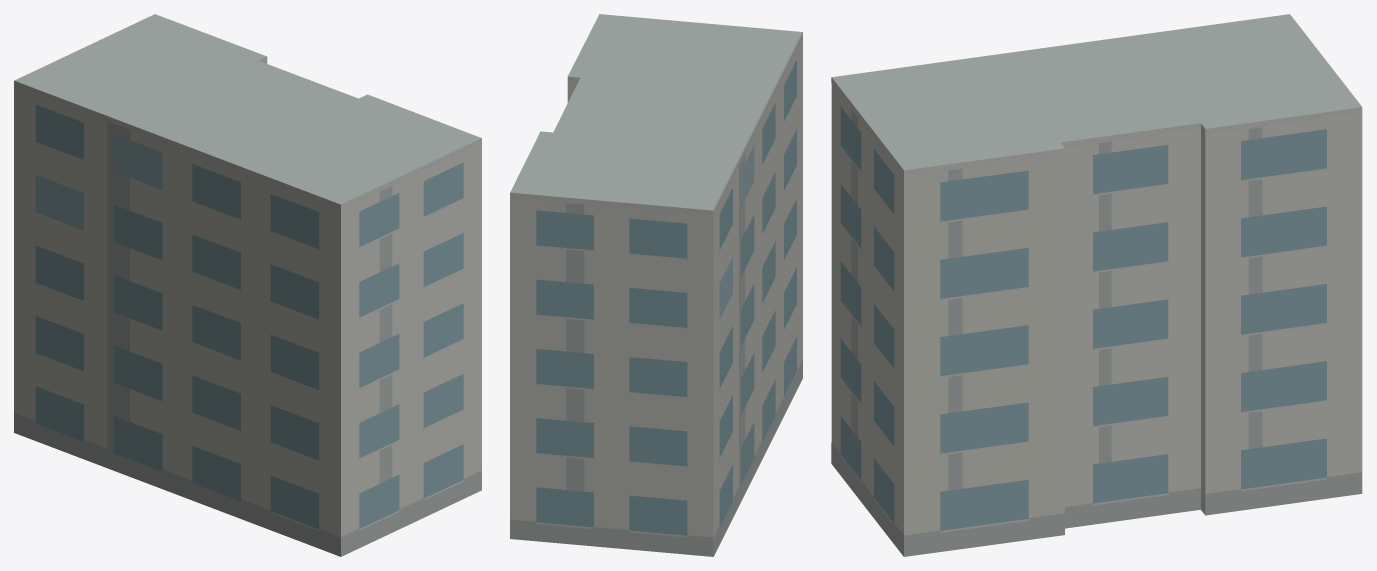
Rendered from survey-upis-32919114.glb.
3 views of the same model, side by side, from view 1: azimuth 30°, elevation 25°; view 2: azimuth 150°, elevation 25°; view 3: azimuth 270°, elevation 25° (orthographic). The views are drawn at different scales.
Visible parts, largest first — view 1: survey-upis-32919114.tmp; view 2: survey-upis-32919114.tmp; view 3: survey-upis-32919114.tmp.
Boxes of the visible parts, x1=… form: survey-upis-32919114.tmp: x1=14, y1=14, x2=481, y2=556; survey-upis-32919114.tmp: x1=510, y1=14, x2=802, y2=556; survey-upis-32919114.tmp: x1=831, y1=14, x2=1362, y2=556.
Bounding box in the file's own units: 13.23 × 15.25 × 18.99.
